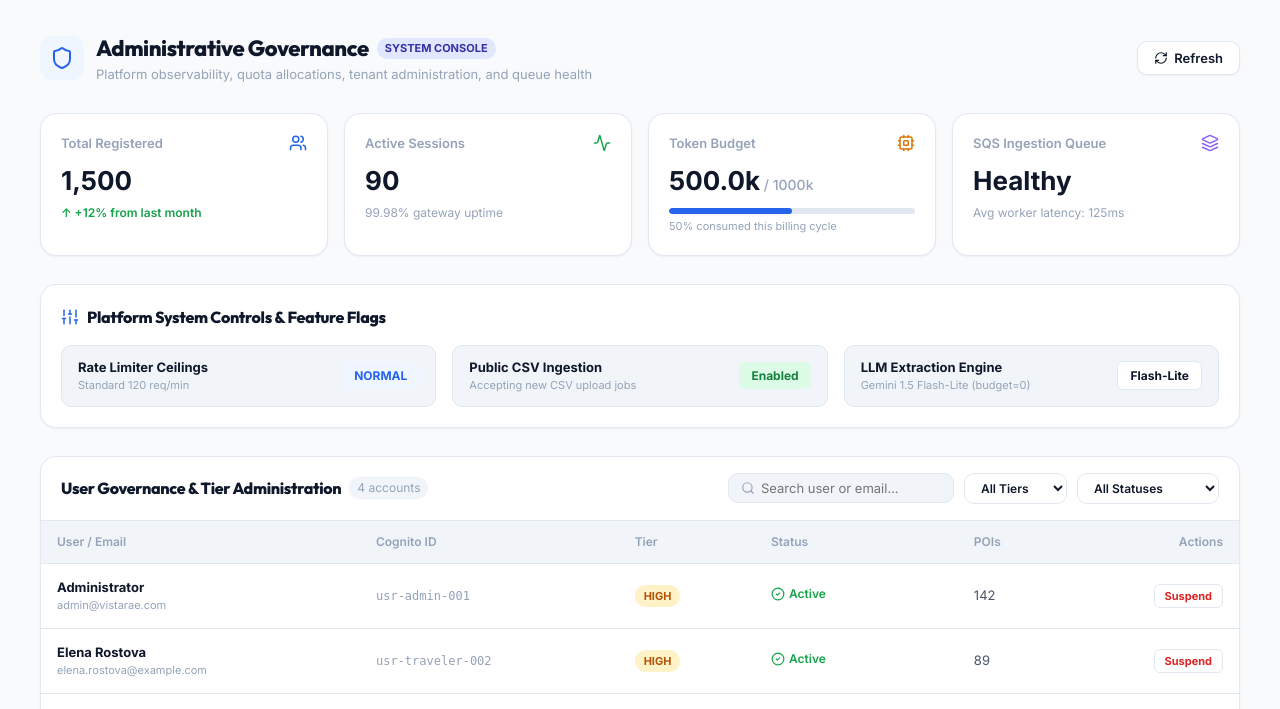
it: AdminDashboardPage Component (REQ-UI-018) › filters user accounts by search query
Expected: the text "Elena Rostova" is shown, [57, 644, 146, 660]
Step 1. Type "Chen" into the field with placeholder "Search user or email..." → x=851, y=488, box [761, 480, 941, 496]
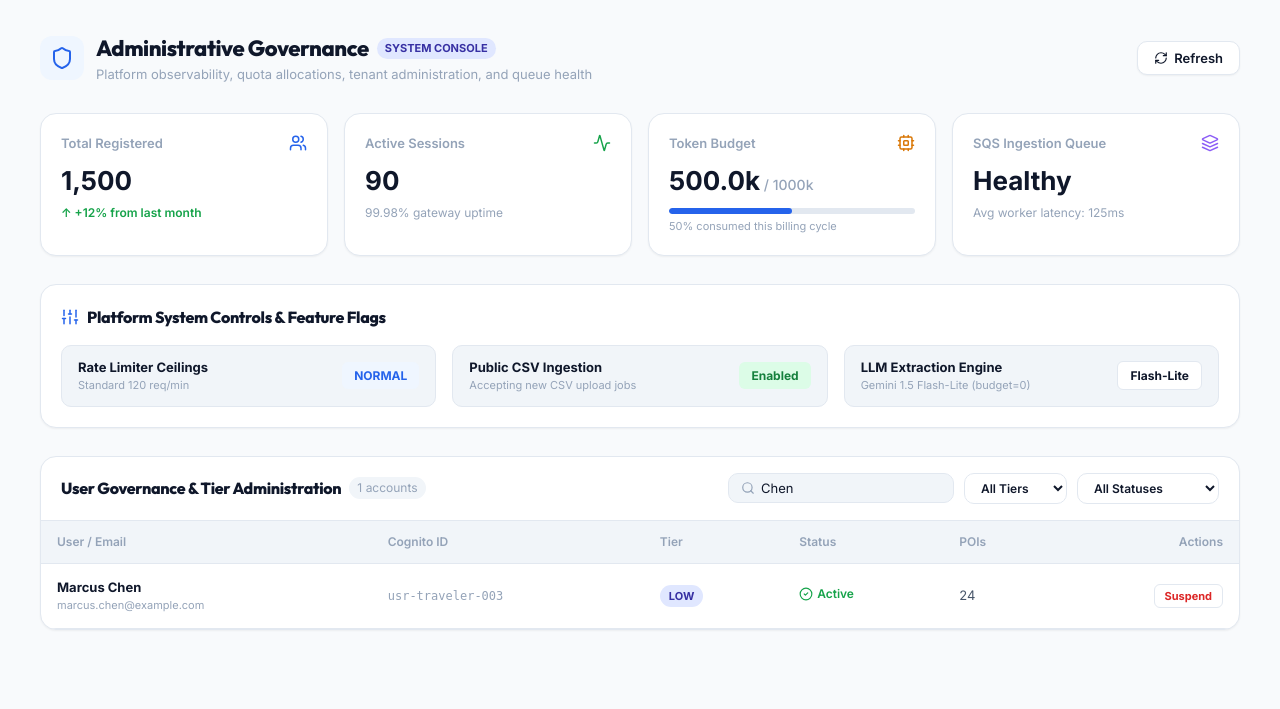
Expected: the text "Marcus Chen" is shown, [57, 578, 141, 594]
Expected: the text "Elena Rostova" is gone
